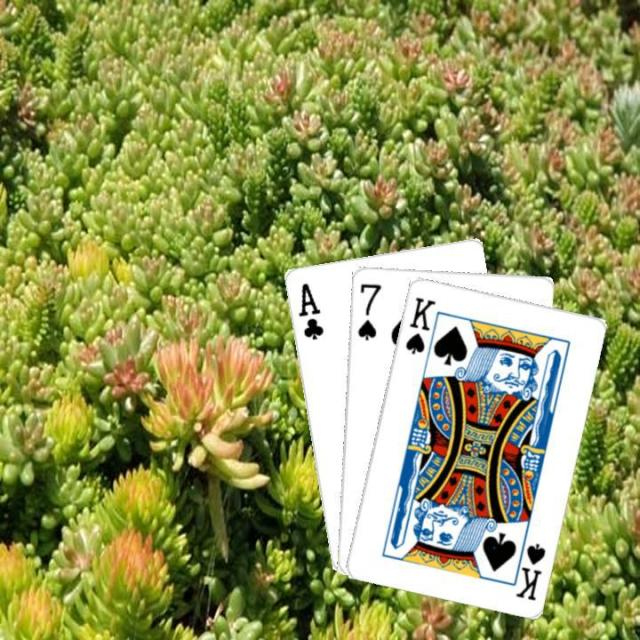7S: (353, 279, 382, 341)
AC: (294, 279, 326, 341)
KS: (508, 530, 548, 602), (401, 293, 436, 357)
